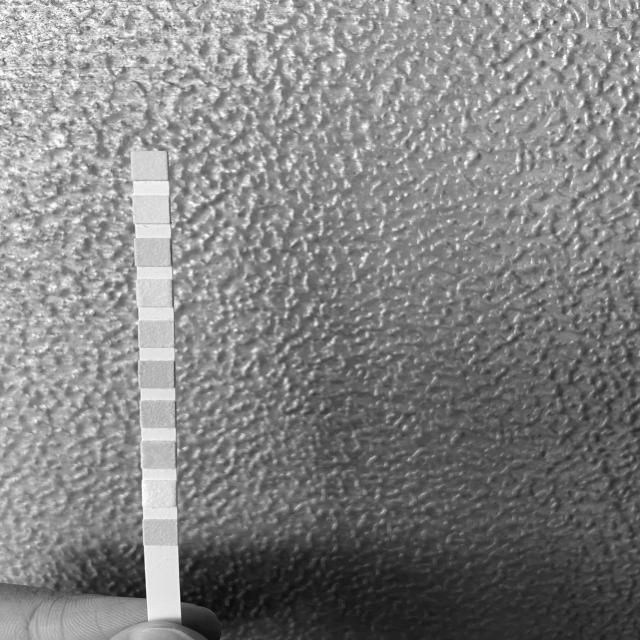Bilirubin: (143, 480, 176, 508)
Blood: (139, 362, 174, 388)
Glucose: (144, 520, 178, 546)
Ketone: (141, 442, 175, 469)
Leukocytes: (132, 152, 167, 180)
Nitrite: (134, 196, 170, 224)
Protein: (137, 280, 172, 307)
SpGravity: (140, 402, 175, 427)
Urobilinogen: (135, 238, 170, 266)
background: (0, 0, 640, 640)
pH: (139, 320, 174, 348)
strip: (132, 151, 182, 619)
